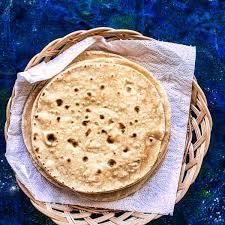roti phulka: (42, 68, 169, 198)
